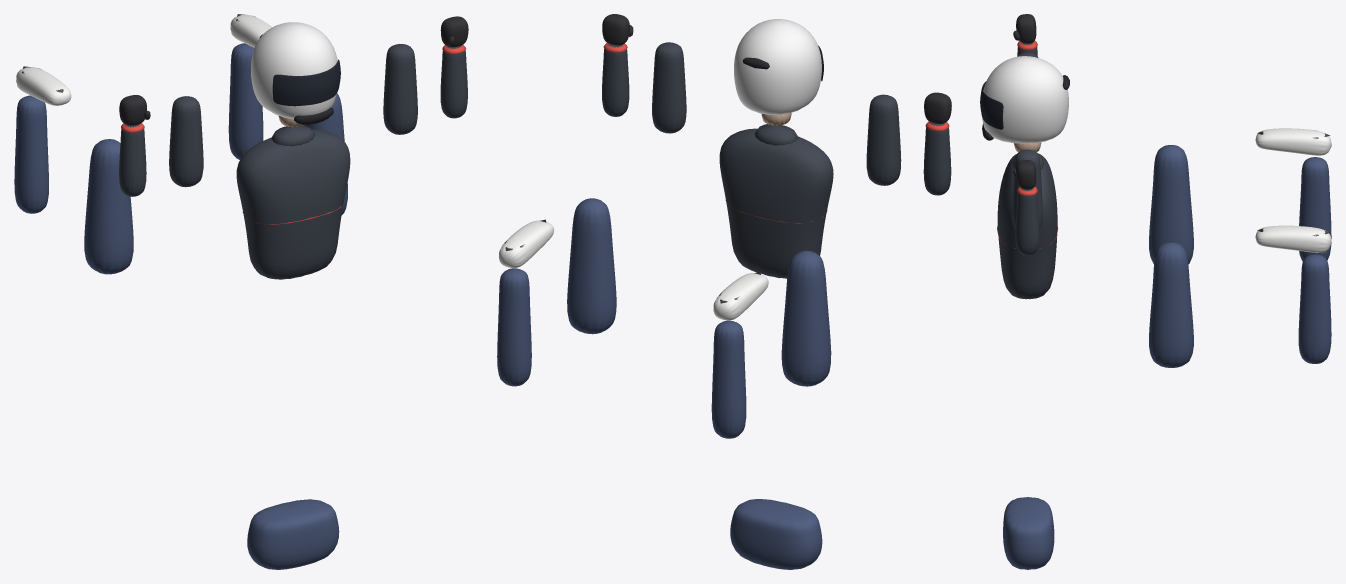
The model's file is rider.glb.
The picture shows the model from 3 angles, left to right: view 1: azimuth 30°, elevation 25°; view 2: azimuth 150°, elevation 25°; view 3: azimuth 270°, elevation 25°; orthographic projection. The views are drawn at different scales.
Parts seen in each view (by area): view 1: torso, head, pelvis, thigh_L, shin_L, shin_R, uarm_L, uarm_R, farm_L, farm_R, thigh_R; view 2: torso, head, thigh_L, thigh_R, pelvis, shin_L, shin_R, uarm_R, uarm_L, farm_R, farm_L; view 3: head, torso, shin_R, thigh_R, thigh_L, shin_L, pelvis, farm_R, uarm_R, farm_L.
Part boxes in pixels (x1,y1,x2,y2): torso: [236, 125, 350, 279]; head: [251, 22, 340, 127]; pelvis: [247, 499, 339, 569]; thigh_L: [84, 139, 133, 274]; shin_L: [14, 66, 71, 213]; shin_R: [228, 14, 272, 159]; uarm_L: [169, 96, 203, 187]; uarm_R: [383, 44, 417, 134]; farm_L: [119, 95, 150, 196]; farm_R: [440, 16, 468, 118]; thigh_R: [303, 93, 347, 214]; torso: [719, 124, 833, 278]; head: [734, 19, 823, 125]; thigh_L: [781, 250, 831, 386]; thigh_R: [567, 198, 616, 334]; pelvis: [730, 499, 822, 569]; shin_L: [711, 272, 768, 438]; shin_R: [497, 219, 554, 386]; uarm_R: [652, 42, 686, 133]; uarm_L: [866, 94, 901, 185]; farm_R: [602, 14, 633, 116]; farm_L: [923, 92, 951, 195]; head: [980, 56, 1069, 152]; torso: [997, 153, 1058, 299]; shin_R: [1255, 225, 1331, 363]; thigh_R: [1149, 242, 1193, 367]; thigh_L: [1149, 145, 1193, 264]; shin_L: [1255, 128, 1331, 261]; pelvis: [1003, 497, 1054, 569]; farm_R: [1013, 160, 1039, 255]; uarm_R: [1012, 149, 1042, 228]; farm_L: [1013, 14, 1037, 55].
Bounding box in the file's own units: 1.29 × 1.92 × 1.22.
